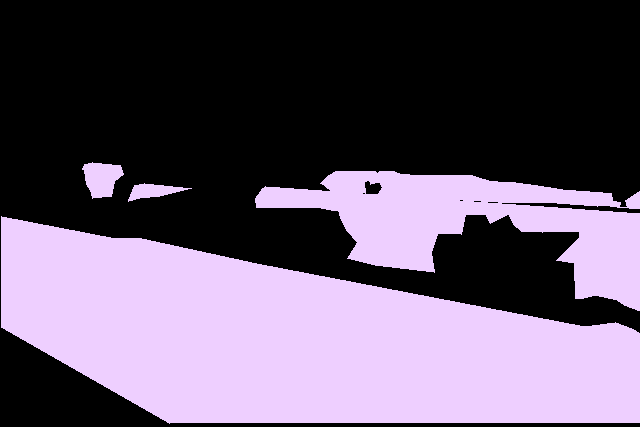Train: (1, 216, 640, 423), (128, 183, 640, 312), (320, 171, 640, 210), (82, 162, 124, 199)
